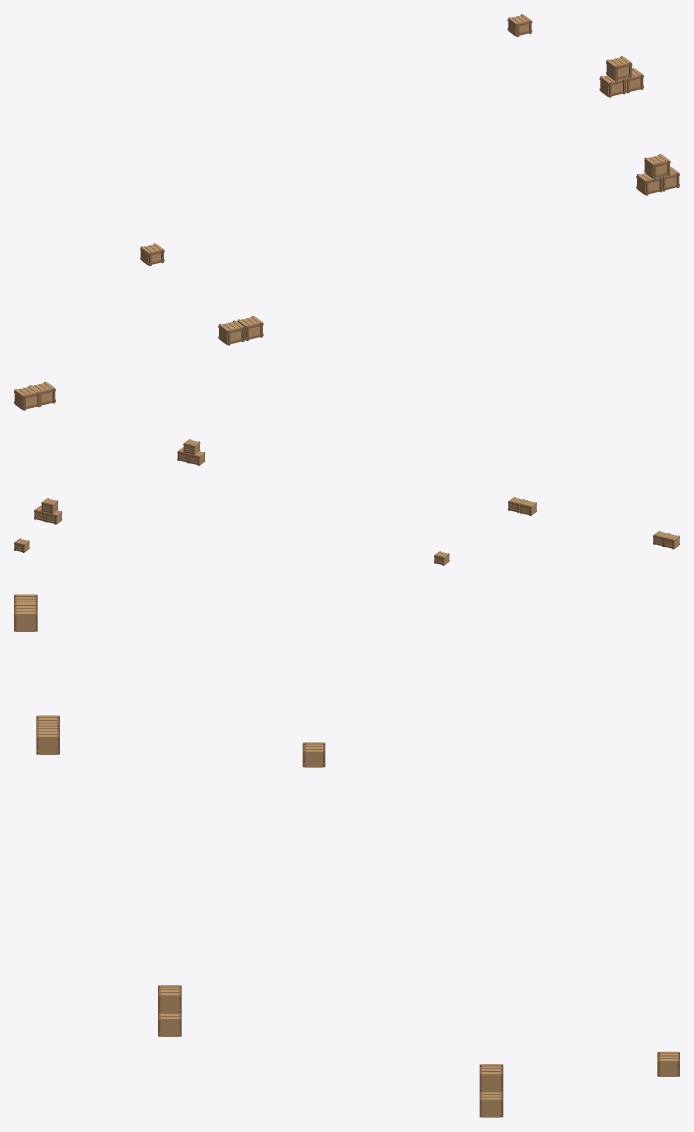
Rendered from SM_CratesAndCaravanCargo.fbx.
3 renders of one model, top to bottom at view 1: azimuth 30°, elevation 25°; view 2: azimuth 150°, elevation 25°; view 3: azimuth 270°, elevation 25°, orthographic. The views are drawn at different scales.
Visible parts, largest first — view 1: SM_CratesAndCaravanCargo_Export; view 2: SM_CratesAndCaravanCargo_Export; view 3: SM_CratesAndCaravanCargo_Export.
Part boxes in pixels (x1,y1,x2,y2): SM_CratesAndCaravanCargo_Export: (14, 14, 679, 410); SM_CratesAndCaravanCargo_Export: (14, 439, 679, 565); SM_CratesAndCaravanCargo_Export: (14, 594, 679, 1117).
Bounding box in the file's own units: 5230 × 3005 × 303.
